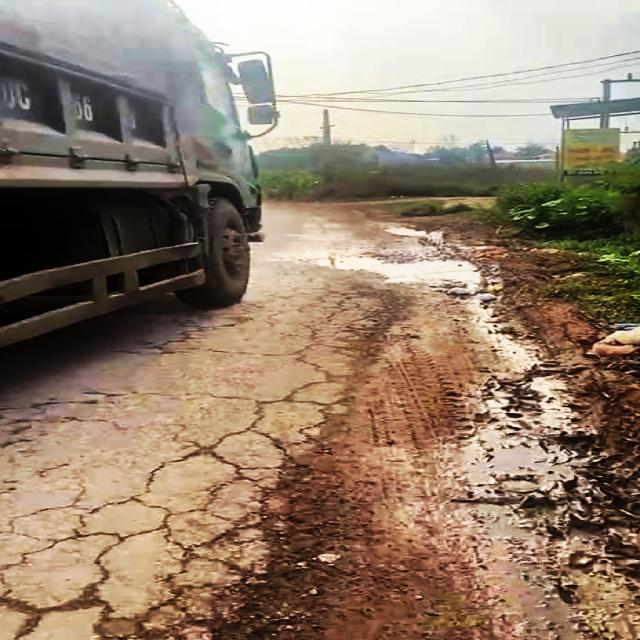pothole: (314, 245, 488, 292)
